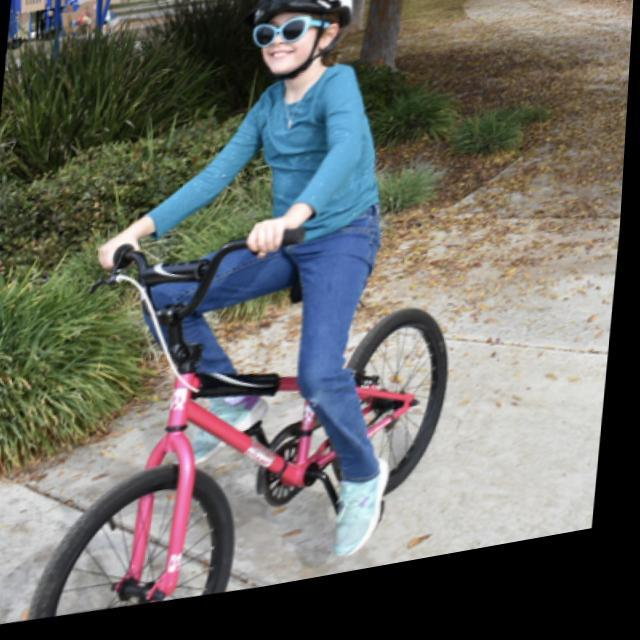Helmet: (240, 0, 355, 88)
